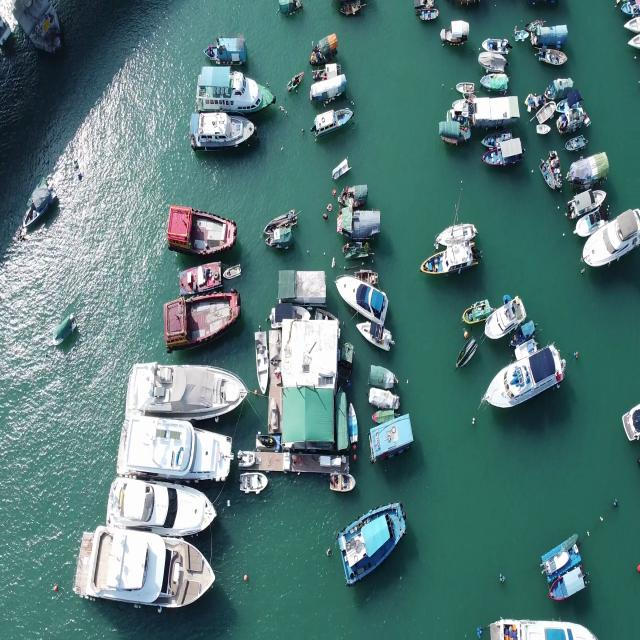ship: (72, 527, 216, 608), (116, 415, 232, 486), (127, 360, 246, 419), (109, 474, 214, 534), (341, 500, 407, 578), (484, 352, 568, 408), (162, 293, 242, 343), (583, 210, 639, 278), (196, 66, 274, 113), (168, 206, 237, 253), (333, 272, 392, 324), (190, 109, 254, 145)
